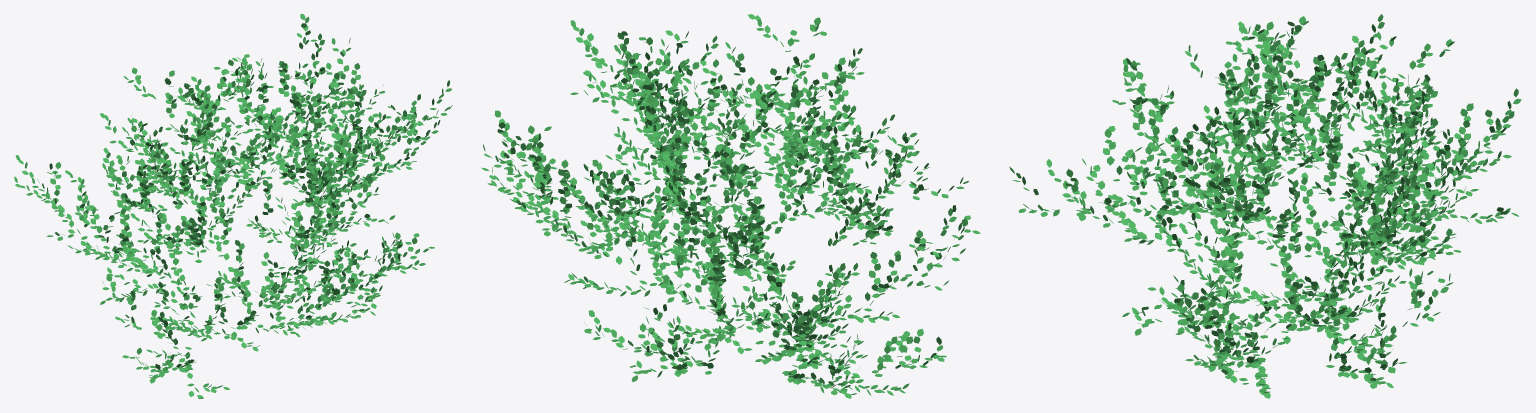
Rendered from Tree_Leaves.fbx.
3 renders of one model, left to right at view 1: azimuth 30°, elevation 25°; view 2: azimuth 150°, elevation 25°; view 3: azimuth 270°, elevation 25°, orthographic. The views are drawn at different scales.
Visible parts, largest first — view 1: Leaves; view 2: Leaves; view 3: Leaves.
Part boxes in pixels (left/top/right/bottom): Leaves: left=14, top=14, right=452, bottom=398; Leaves: left=481, top=14, right=980, bottom=398; Leaves: left=1009, top=14, right=1521, bottom=398.
Size of the model in its own units: 18.77 by 14.19 by 18.1.
